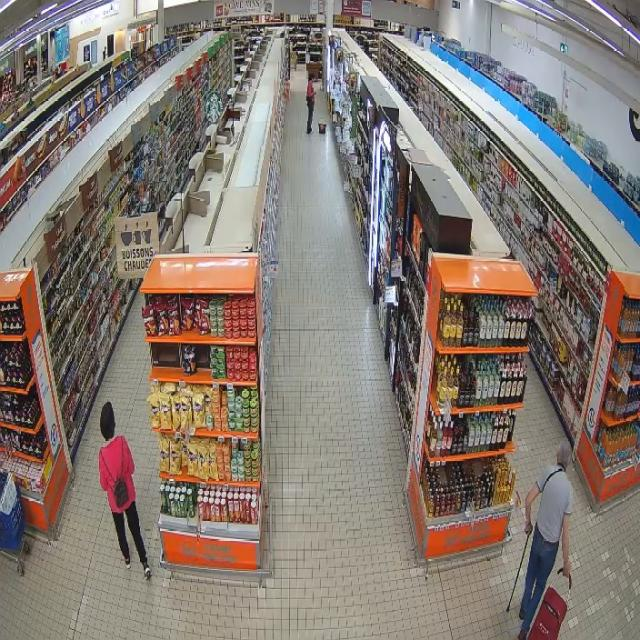bags: (114, 441, 129, 507), (307, 96, 313, 106)
hands: (563, 559, 570, 578), (525, 522, 532, 535)
person: (519, 442, 572, 639), (99, 403, 150, 579), (306, 74, 316, 134)
